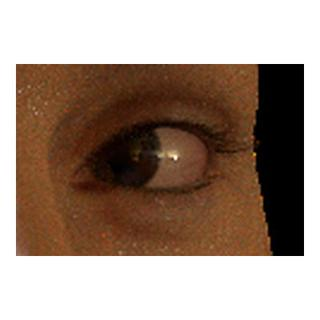pupil: (102, 135, 137, 169)
